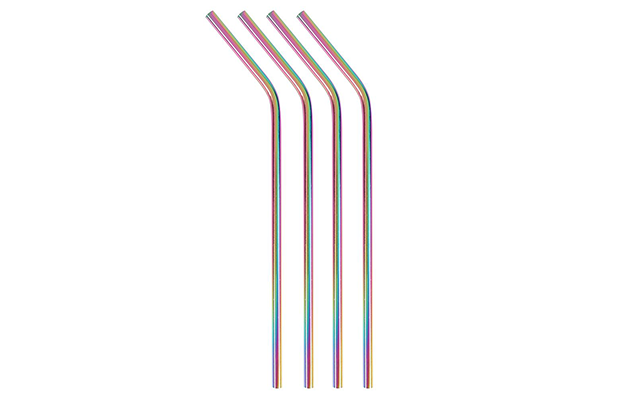Drinking Straw: (204, 9, 287, 389)
